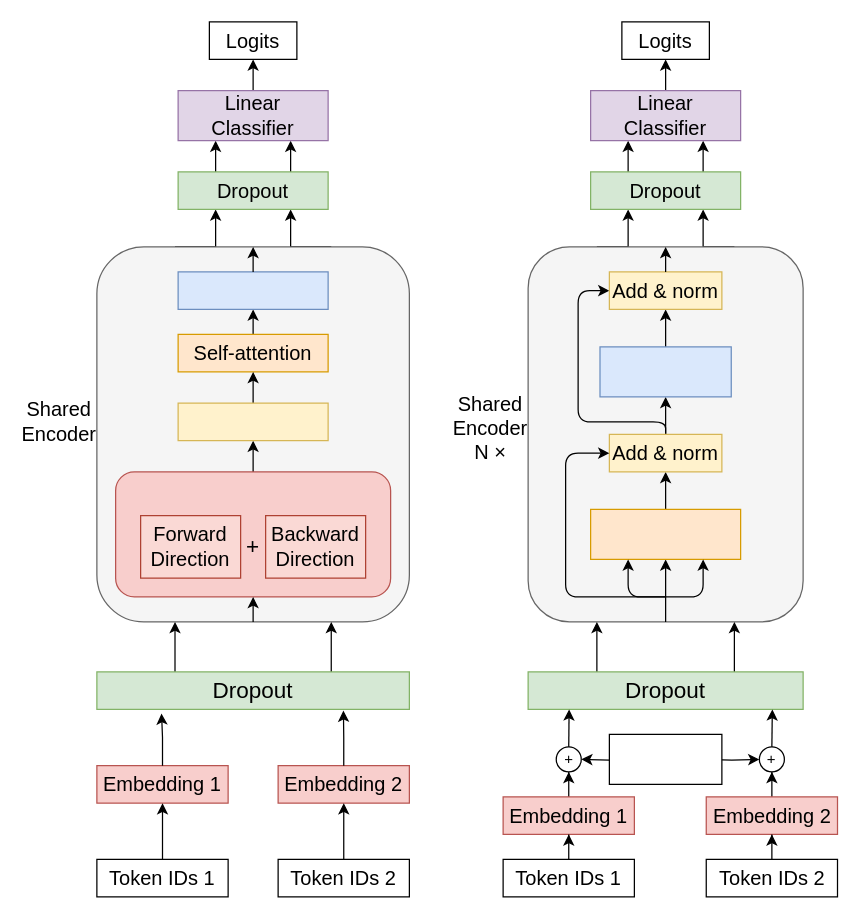
The diagram is 859 pixels wide and 919 high, and some of its shapes have lost their labels. Each missing label, with the box of its shape:
Hidden States: (177, 402, 328, 441)
Mean Polling: (177, 271, 328, 309)
Multi-head Attention: (589, 508, 741, 559)
Positional Encoding: (608, 733, 722, 784)
Positionwise FFN: (599, 346, 731, 397)
Recurrent Unit (GRU/LSTM): (114, 471, 391, 597)
